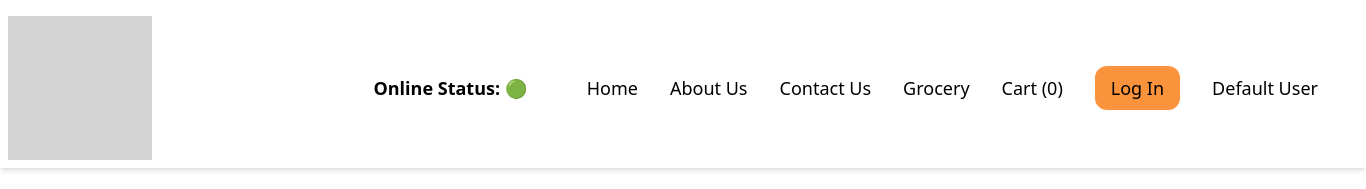
Test: Should check the login button turns into logout on click
Click the button "Log In". click: {"x": 1137, "y": 88}
box: [1095,66,1180,110]
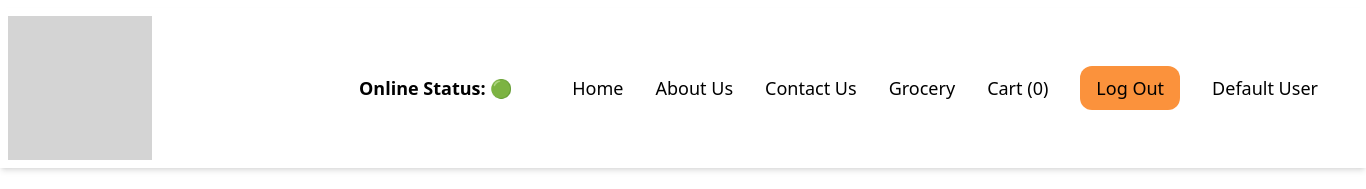
Check: the button "Log Out" is shown, box [1080,66,1180,110]
